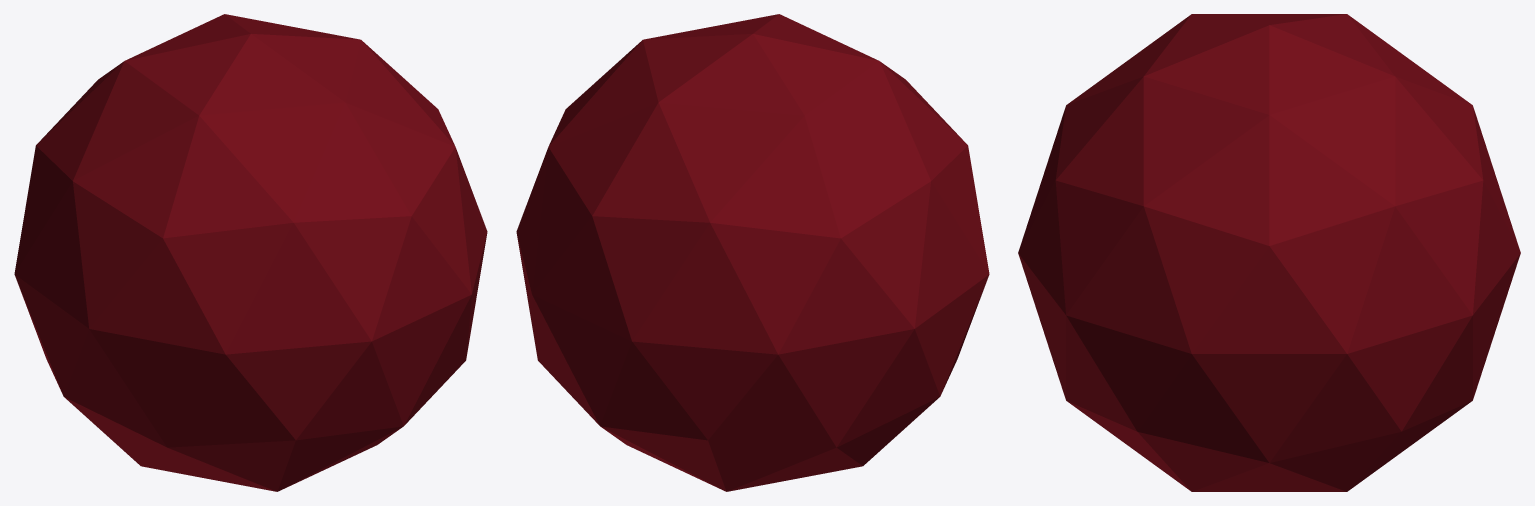
The model's file is projectileRed.gltf.
3 views of the same model, side by side, from view 1: azimuth 30°, elevation 25°; view 2: azimuth 150°, elevation 25°; view 3: azimuth 270°, elevation 25° (orthographic). The views are drawn at different scales.
Parts seen in each view (by area): view 1: Icosphere; view 2: Icosphere; view 3: Icosphere.
Boxes of the visible parts, <box> form: Icosphere: <box>14,14,487,491</box>; Icosphere: <box>516,14,989,491</box>; Icosphere: <box>1018,14,1520,491</box>.
Size of the model in its own units: 1.03 by 1.09 by 1.09.
